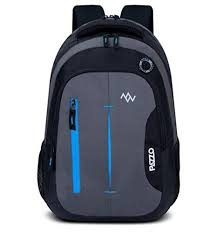bag: (34, 2, 180, 219)
